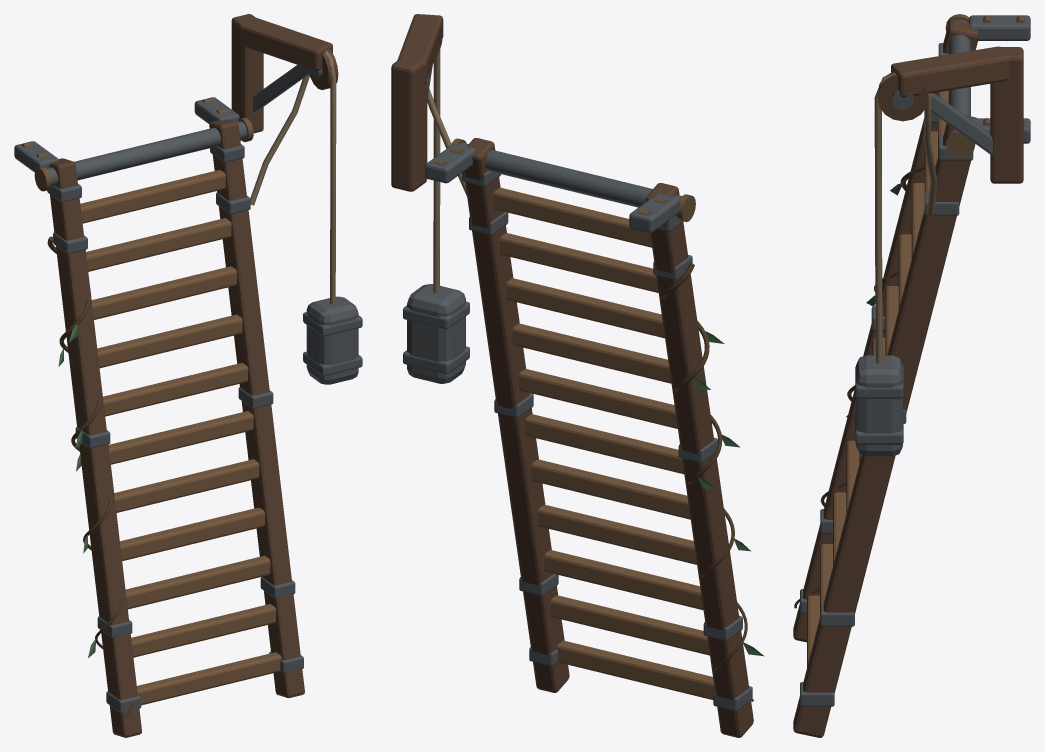
Rendered from branch_terrace_ladder.glb.
3 renders of one model, left to right at view 1: azimuth 30°, elevation 25°; view 2: azimuth 150°, elevation 25°; view 3: azimuth 270°, elevation 25°, orthographic. The views are drawn at different scales.
Parts seen in each view (by area): view 1: Rail left, Rail right, Cast stone counterweight, Hinge axle, Rung 02, Rung 01, Rung 04, Rung 03, Rung 06, Rung 07, Rung 05, Rung 09 (+12 smaller); view 2: Rail left, Rail right, Hoist upright, Cast stone counterweight, Rung 09, Rung 07, Rung 04, Rung 08, Rung 03, Rung 10, Rung 05, Rung 06 (+12 smaller); view 3: Rail right, Rail left, Hoist projecting branch, Hoist upright, Cast stone counterweight, Hoist rope, Anchor plate left, Hoist diagonal brace, Weight pulley, Hinge axle, Rung 03, Rung 04 (+12 smaller).
Part boxes in pixels (x1=…): Rail left: x1=49, y1=158, x2=141, y2=737; Rail right: x1=209, y1=119, x2=304, y2=697; Cast stone counterweight: x1=306, y1=296, x2=358, y2=384; Hinge axle: x1=47, y1=121, x2=247, y2=186; Rung 02: x1=86, y1=218, x2=231, y2=271; Rung 01: x1=80, y1=170, x2=225, y2=223; Rung 04: x1=97, y1=314, x2=242, y2=368; Rung 03: x1=91, y1=266, x2=237, y2=319; Rung 06: x1=108, y1=411, x2=253, y2=464; Rung 07: x1=114, y1=459, x2=259, y2=512; Rung 05: x1=103, y1=362, x2=248, y2=416; Rung 09: x1=125, y1=555, x2=270, y2=609; Rail left: x1=645, y1=183, x2=753, y2=737; Rail right: x1=464, y1=138, x2=569, y2=692; Hoist upright: x1=391, y1=56, x2=427, y2=191; Cast stone counterweight: x1=407, y1=284, x2=465, y2=383; Rung 09: x1=544, y1=550, x2=703, y2=610; Rung 07: x1=531, y1=459, x2=690, y2=519; Rung 04: x1=512, y1=323, x2=671, y2=383; Rung 08: x1=538, y1=504, x2=696, y2=564; Rung 03: x1=506, y1=278, x2=664, y2=338; Rung 10: x1=550, y1=595, x2=709, y2=655; Rung 05: x1=519, y1=369, x2=677, y2=428; Rung 06: x1=525, y1=414, x2=684, y2=474; Rail right: x1=793, y1=115, x2=976, y2=737; Rail left: x1=793, y1=19, x2=979, y2=642; Hoist projecting branch: x1=891, y1=46, x2=1009, y2=97; Hoist upright: x1=990, y1=47, x2=1023, y2=183; Cast stone counterweight: x1=856, y1=355, x2=902, y2=456; Hoist rope: x1=874, y1=73, x2=937, y2=363; Anchor plate left: x1=969, y1=15, x2=1030, y2=40; Hoist diagonal brace: x1=931, y1=93, x2=992, y2=154; Weight pulley: x1=877, y1=72, x2=928, y2=121; Hinge axle: x1=948, y1=19, x2=970, y2=131; Rung 03: x1=911, y1=183, x2=924, y2=258; Rung 04: x1=898, y1=234, x2=911, y2=309.
Size of the model in its own units: 1.98 by 3.97 by 1.21.
